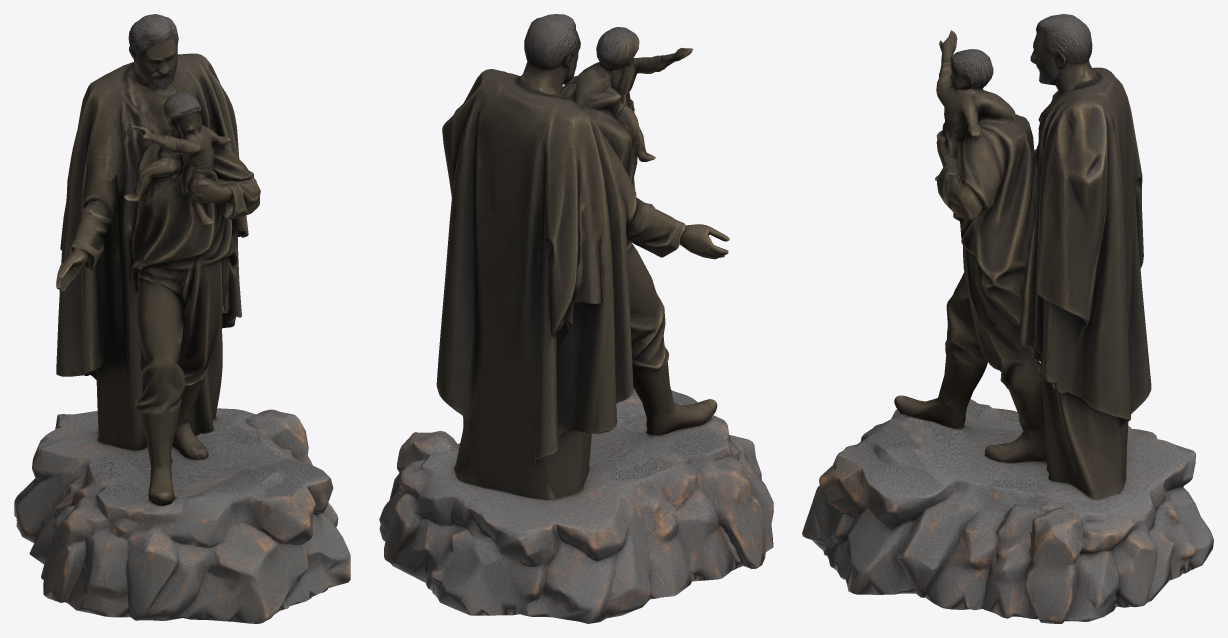
File: monument.glb
3 views of the same model, side by side, from view 1: azimuth 30°, elevation 25°; view 2: azimuth 150°, elevation 25°; view 3: azimuth 270°, elevation 25° (orthographic). The views are drawn at different scales.
Bounding box in the file's own units: 1.19 × 1.9 × 1.34.
Materials: 1 (1 with a texture image).
